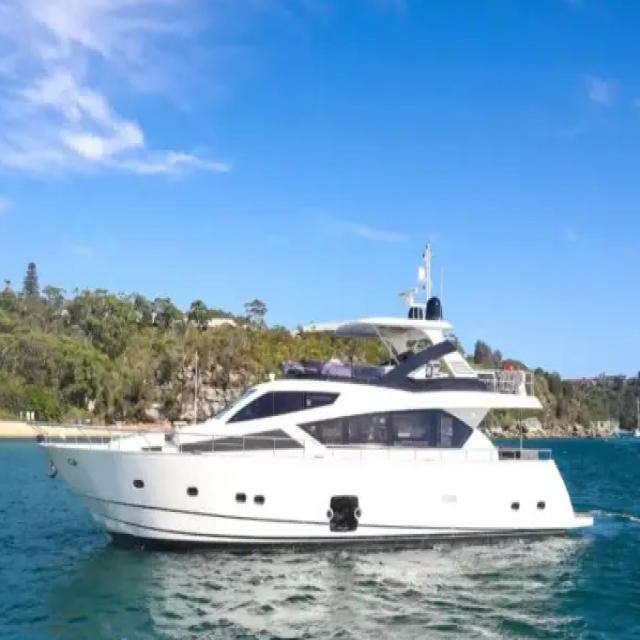houseboat: (32, 246, 596, 552)
